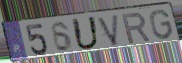5: (24, 22, 49, 56)
6: (50, 21, 74, 53)
G: (149, 8, 174, 40)
R: (120, 11, 152, 45)
U: (71, 16, 102, 52)
V: (95, 13, 120, 47)
